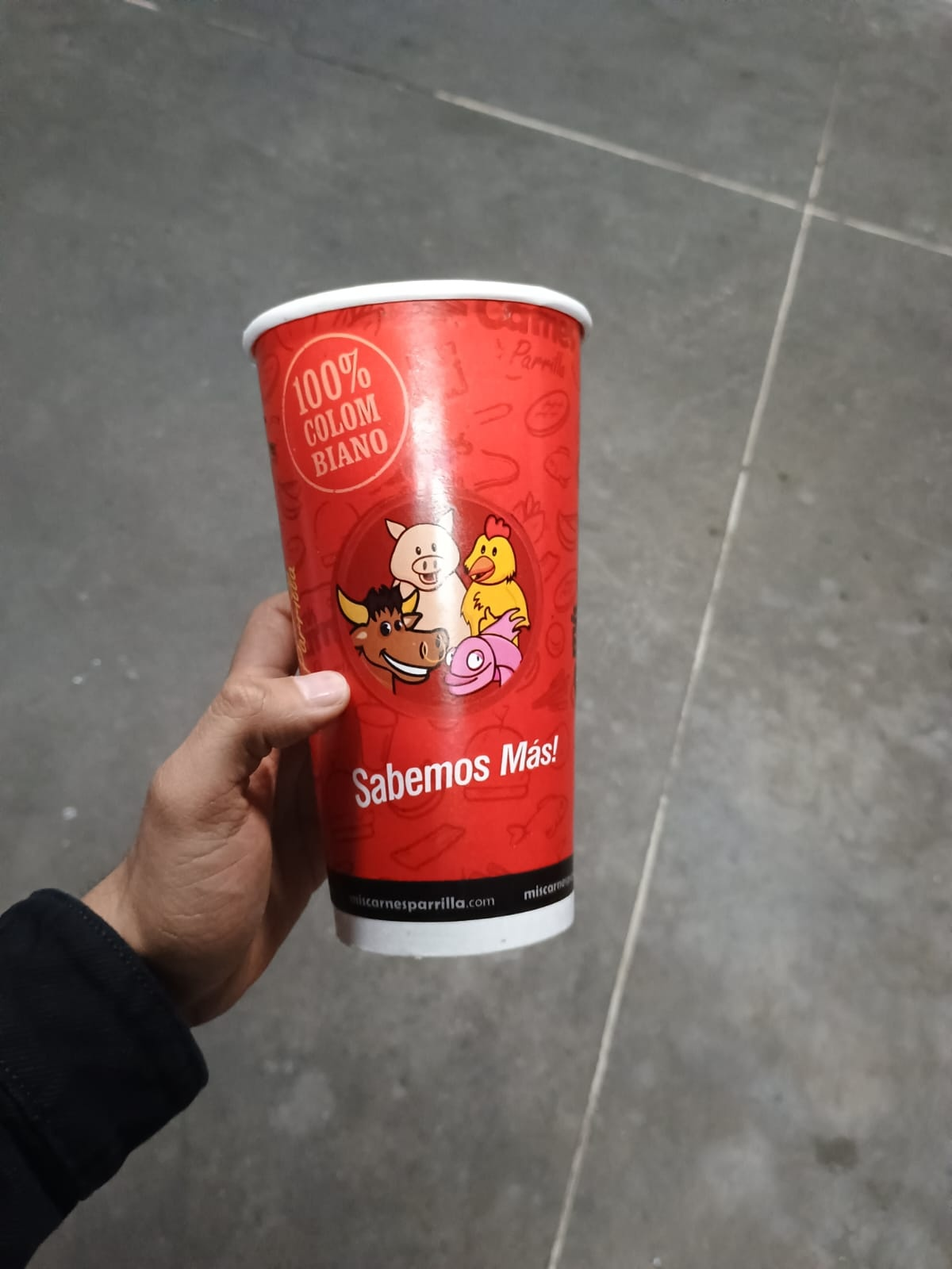Carton: (241, 278, 591, 959)
